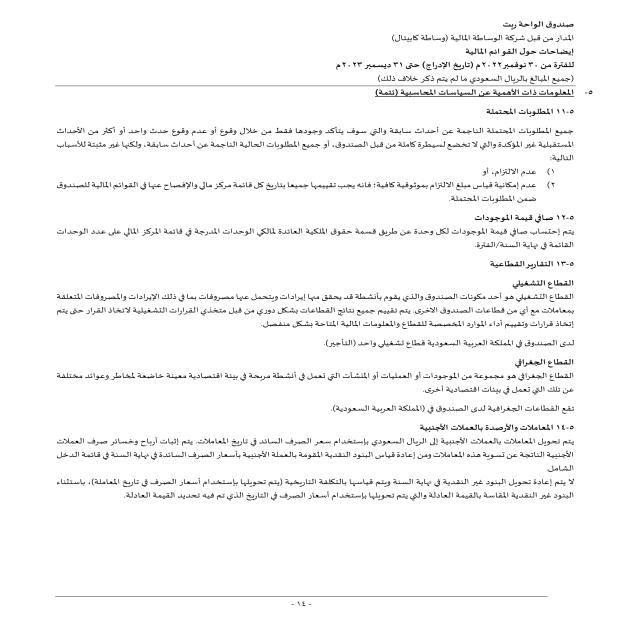notes: (453, 47, 578, 59)
text: (33, 102, 581, 544)
